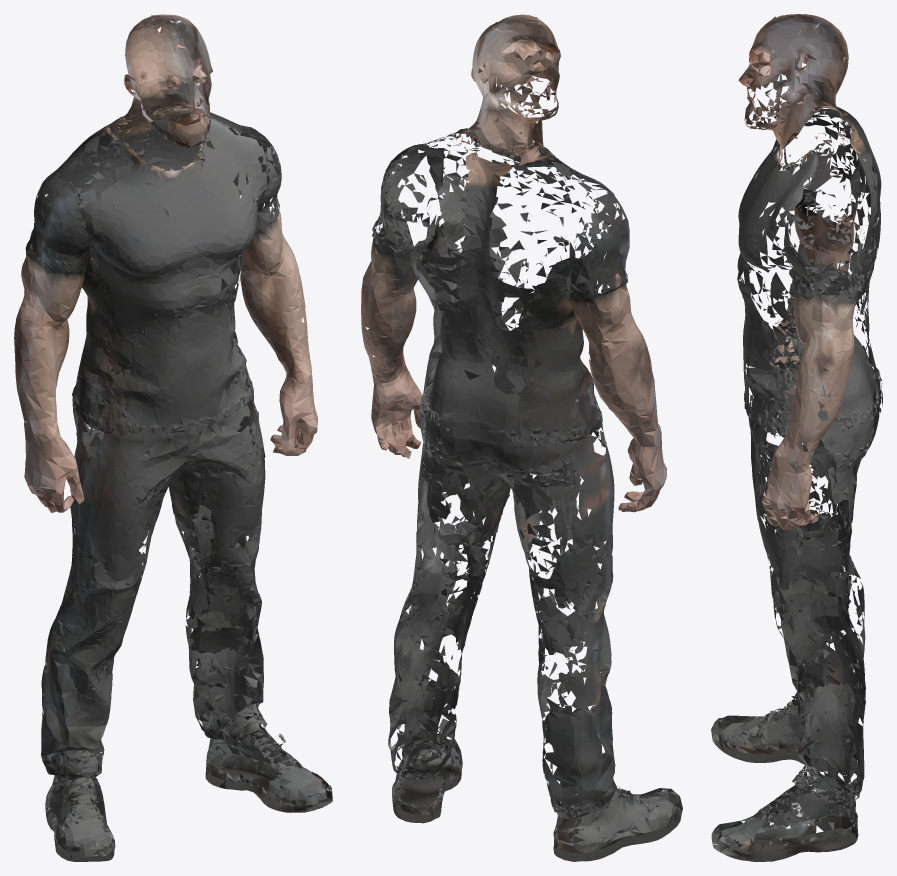
Rendered from hormozi.glb.
3 views of the same model, side by side, from view 1: azimuth 30°, elevation 25°; view 2: azimuth 150°, elevation 25°; view 3: azimuth 270°, elevation 25° (orthographic).
Size of the model in its own units: 0.6743 by 1.8 by 0.3581.
